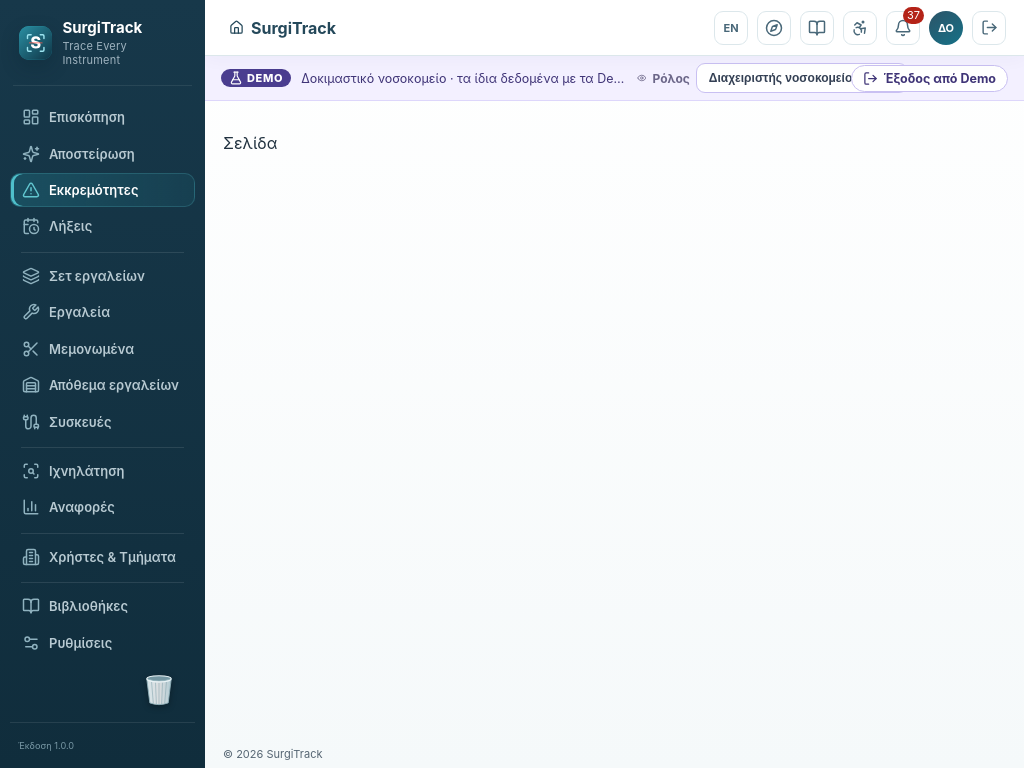
Test: «Οδηγός οθόνης» in the top bar › opens the guide of the screen for the hospital admin, and closes it again
Expected: the element "Οδηγός οθόνης" is not shown
Click the button named "Οδηγός οθόνης" at x=774, y=28, box [757,10,791,44]
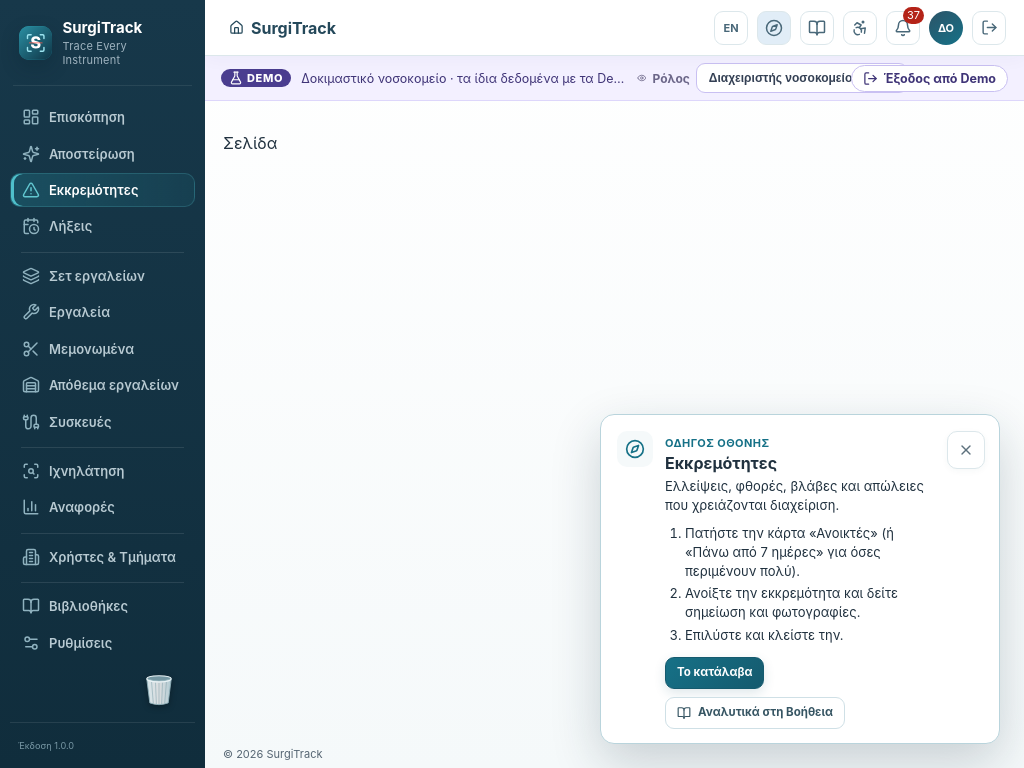
Now the element "Οδηγός οθόνης" is shown, box [600,414,1000,744]
Click the button "Το κατάλαβα" at x=715, y=673, box [665,657,764,689]
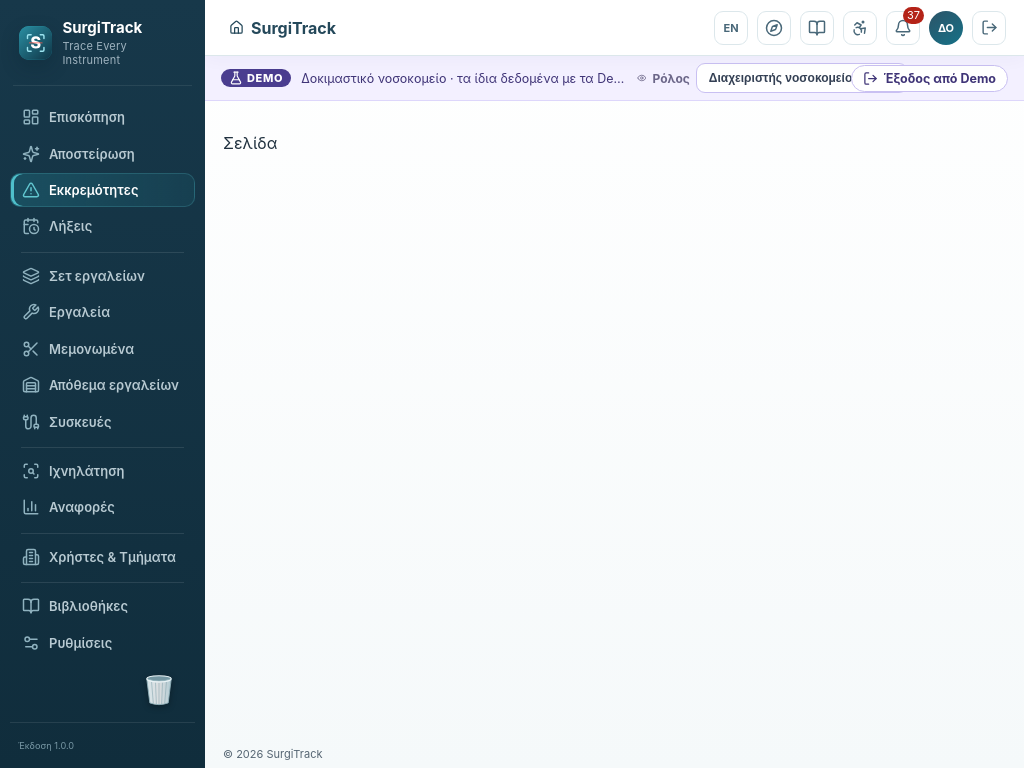
Now the text "Οδηγός οθόνης" is gone
